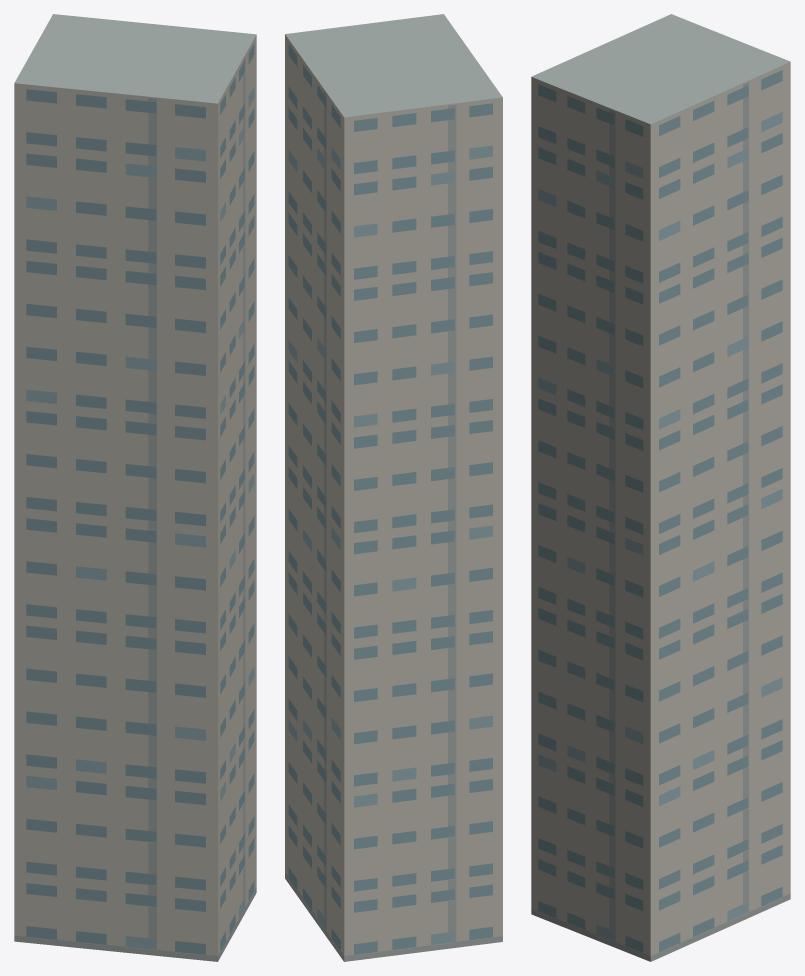
The model's file is residential-44dd1ca2-c1bf-4120-8d78-8de1dcf952e7.glb.
The picture shows the model from 3 angles, left to right: view 1: azimuth 30°, elevation 25°; view 2: azimuth 150°, elevation 25°; view 3: azimuth 270°, elevation 25°; orthographic projection. The views are drawn at different scales.
Visible parts, largest first — view 1: residential-44dd1ca2-c1bf-4120-8d78-8de1dcf952e7.tmp; view 2: residential-44dd1ca2-c1bf-4120-8d78-8de1dcf952e7.tmp; view 3: residential-44dd1ca2-c1bf-4120-8d78-8de1dcf952e7.tmp.
Part boxes in pixels (box(x1,y1,x2,y2)): residential-44dd1ca2-c1bf-4120-8d78-8de1dcf952e7.tmp: box(14, 14, 256, 961); residential-44dd1ca2-c1bf-4120-8d78-8de1dcf952e7.tmp: box(285, 14, 502, 961); residential-44dd1ca2-c1bf-4120-8d78-8de1dcf952e7.tmp: box(531, 14, 790, 961).
Size of the model in its own units: 36.48 by 129 by 36.24.
